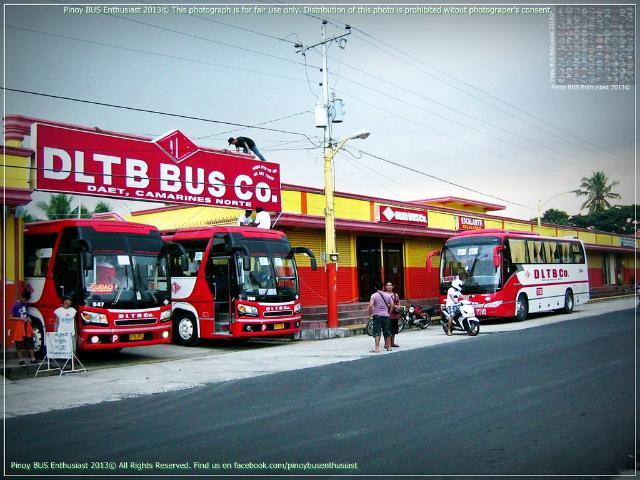bus: (19, 219, 170, 355), (158, 225, 307, 344), (432, 229, 584, 323)
motorcycle: (435, 275, 481, 340), (401, 296, 434, 333)
